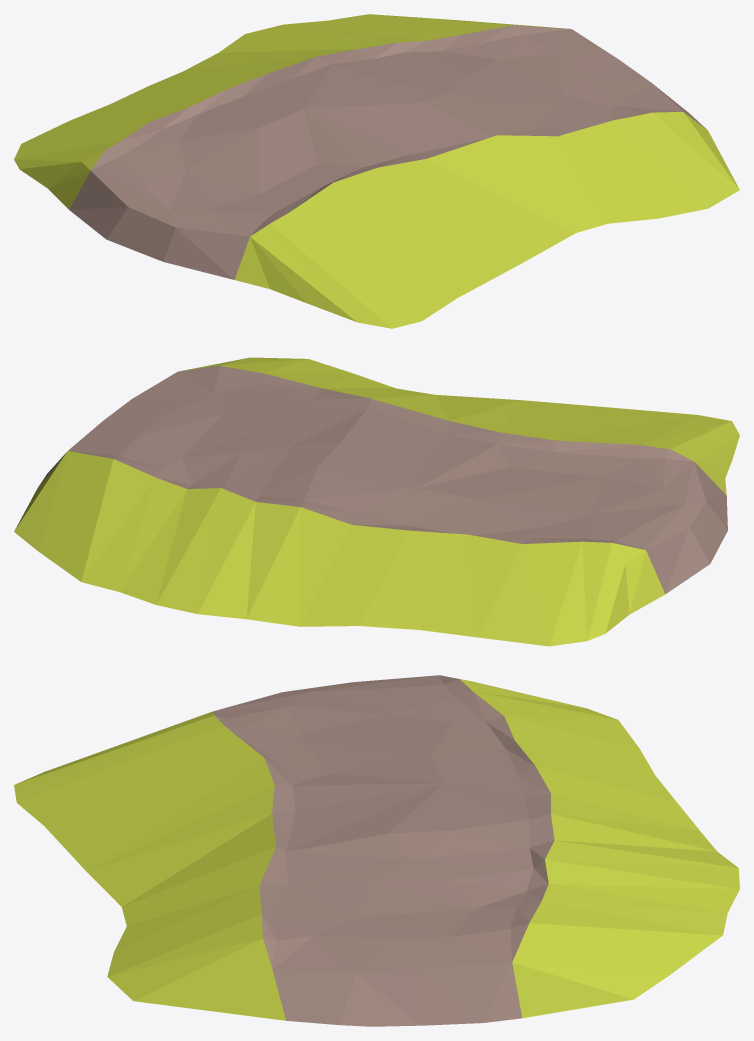
The model's file is Road_009.glb.
3 renders of one model, top to bottom at view 1: azimuth 30°, elevation 25°; view 2: azimuth 150°, elevation 25°; view 3: azimuth 270°, elevation 25°, orthographic. The views are drawn at different scales.
Parts seen in each view (by area): view 1: Road_009; view 2: Road_009; view 3: Road_009.
Boxes of the visible parts, x1,y1,x2,y2 form: Road_009: (14, 14, 739, 328); Road_009: (14, 357, 739, 646); Road_009: (14, 675, 739, 1026).
Bounding box in the file's own units: 35.18 × 3.34 × 34.55.
1 material, 1 textured.
